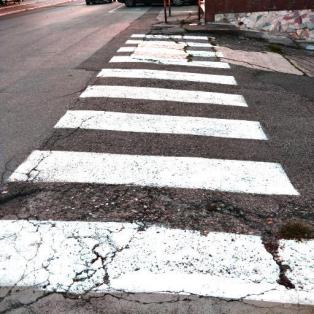Paso de Cebra: (46, 83, 275, 143), (103, 44, 234, 72)
